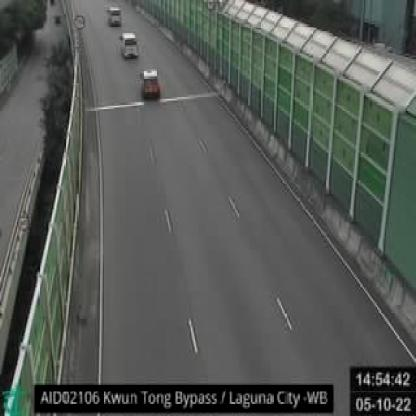Car: (140, 68, 162, 97), (120, 29, 139, 59), (107, 5, 122, 23)
